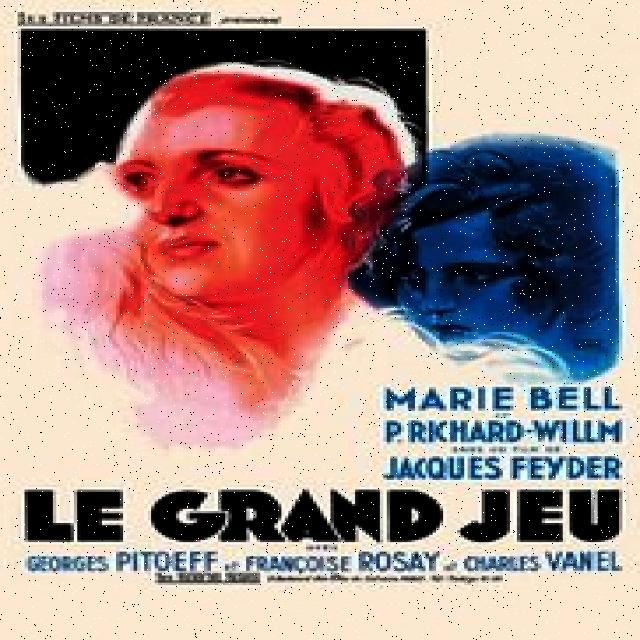movie-judul: (17, 484, 640, 546)
picture: (39, 60, 418, 445), (355, 127, 640, 382)
